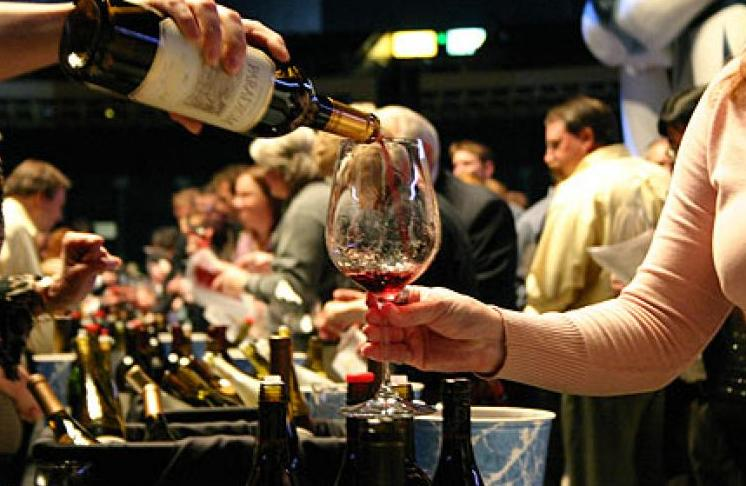wine bottle: (57, 0, 381, 145)
wine label: (127, 15, 276, 135)
